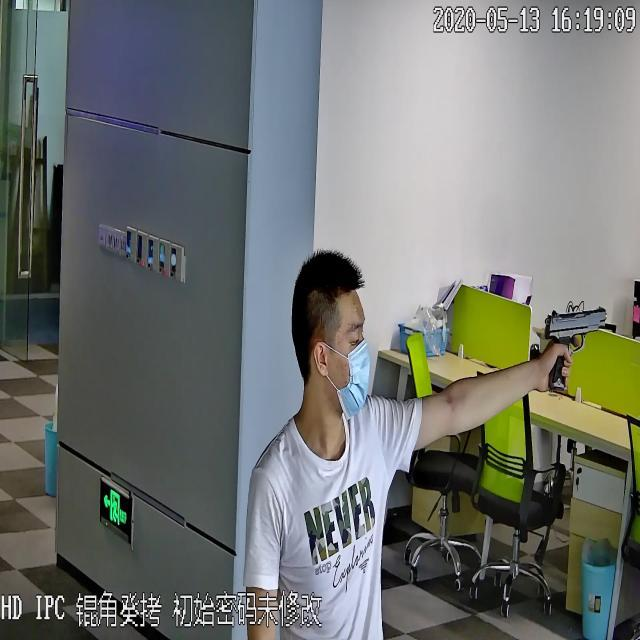gun: (532, 292, 618, 388)
